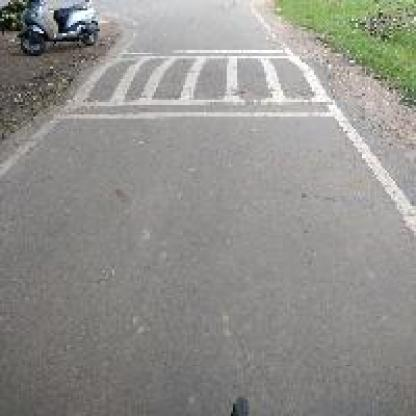Speed Bump: (52, 46, 341, 121)
